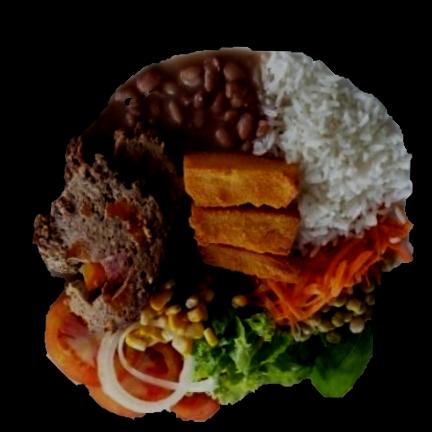beans: (86, 49, 263, 155)
carrot: (252, 216, 411, 326)
cassava: (183, 152, 301, 282)
corn: (121, 274, 217, 355)
meat: (33, 125, 184, 333)
rice: (252, 52, 412, 255)
salad: (193, 297, 372, 405)
tomato: (45, 295, 145, 418), (115, 356, 172, 401), (126, 345, 181, 381), (170, 394, 219, 422)
